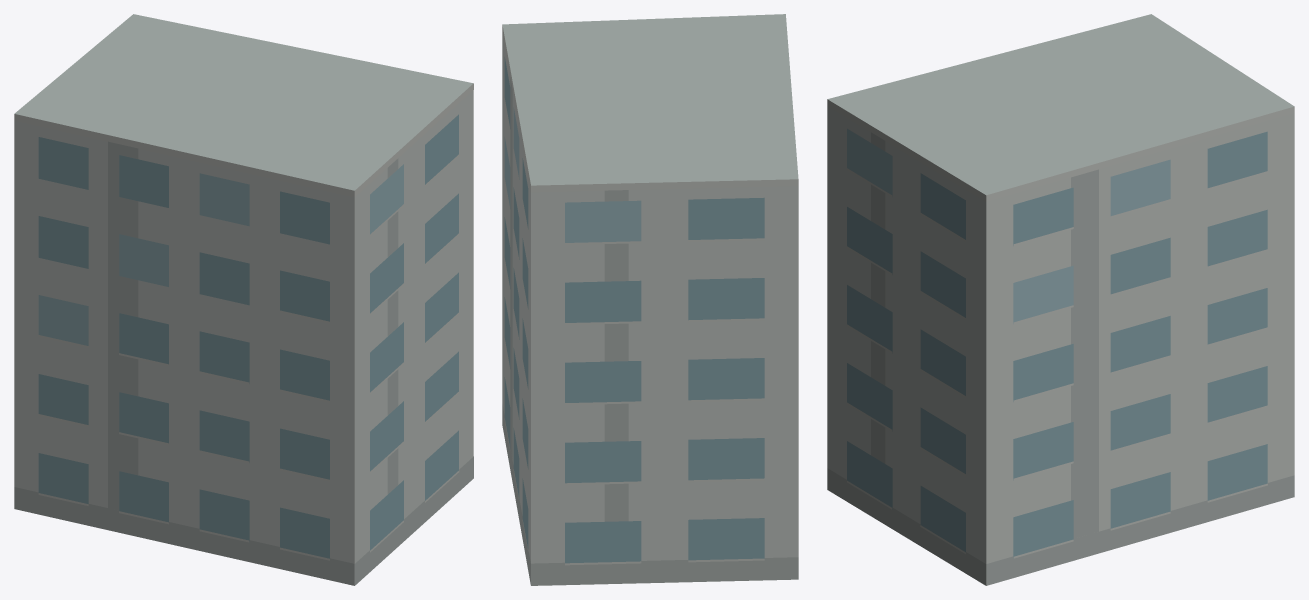
File: survey-upis-33025587.glb
The picture shows the model from 3 angles, left to right: view 1: azimuth 30°, elevation 25°; view 2: azimuth 150°, elevation 25°; view 3: azimuth 270°, elevation 25°; orthographic projection. The views are drawn at different scales.
Visible parts, largest first — view 1: survey-upis-33025587.tmp; view 2: survey-upis-33025587.tmp; view 3: survey-upis-33025587.tmp.
Part boxes in pixels (bbox=[...]): survey-upis-33025587.tmp: bbox=[14, 14, 473, 585]; survey-upis-33025587.tmp: bbox=[502, 14, 798, 585]; survey-upis-33025587.tmp: bbox=[827, 14, 1294, 585].
Size of the model in its own units: 14.44 by 14.5 by 15.73.
